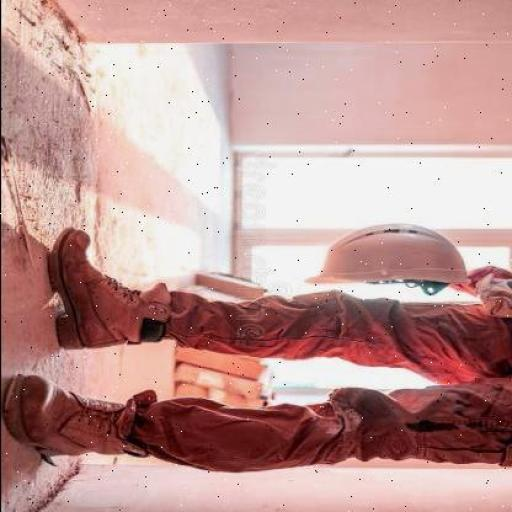safety_shoe: (4, 377, 149, 471), (50, 230, 159, 352)
